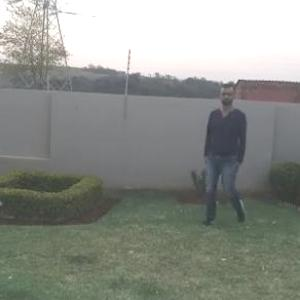follow: (200, 82, 249, 230)
